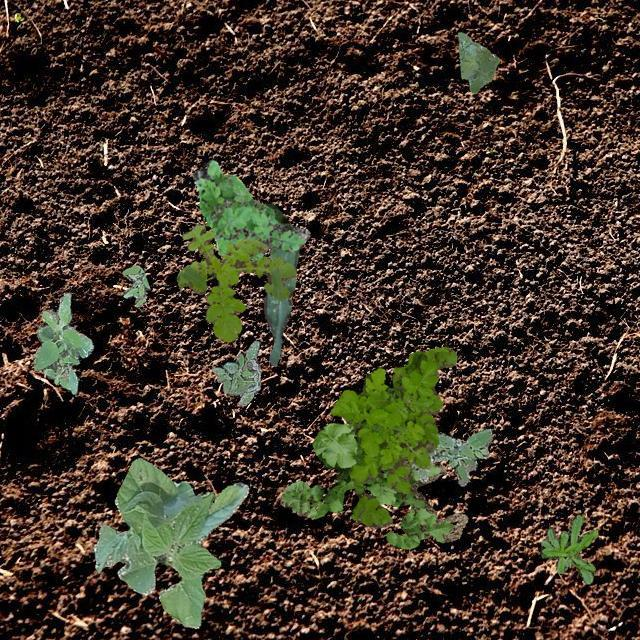crop: (92, 458, 248, 628), (264, 202, 298, 364)
weed: (279, 422, 466, 548), (330, 346, 456, 526), (176, 222, 296, 340), (192, 158, 308, 260), (32, 292, 92, 392), (412, 428, 492, 484), (538, 514, 598, 582), (210, 340, 260, 404), (457, 32, 499, 92), (122, 264, 148, 306)
